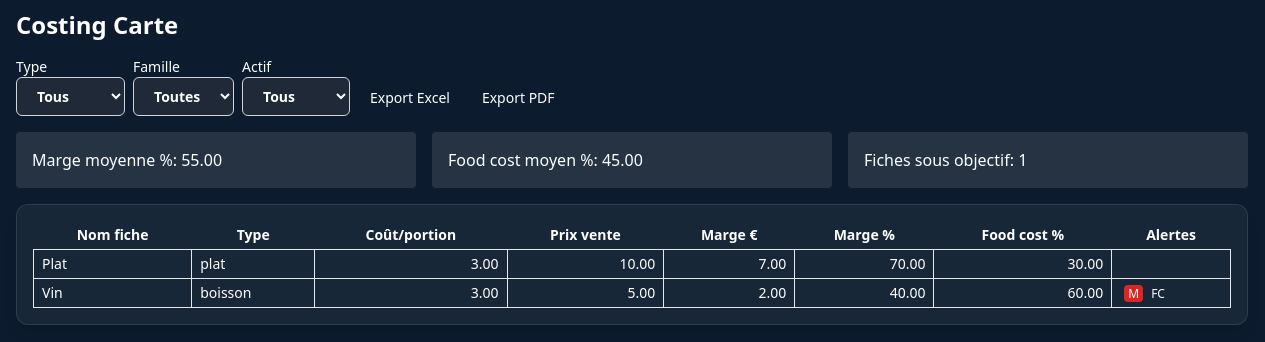
Test: filters by type
The image size is (1265, 342).
Select "Plat" in the dropdown labelled "Type" at [70, 96], box [16,77,125,116]
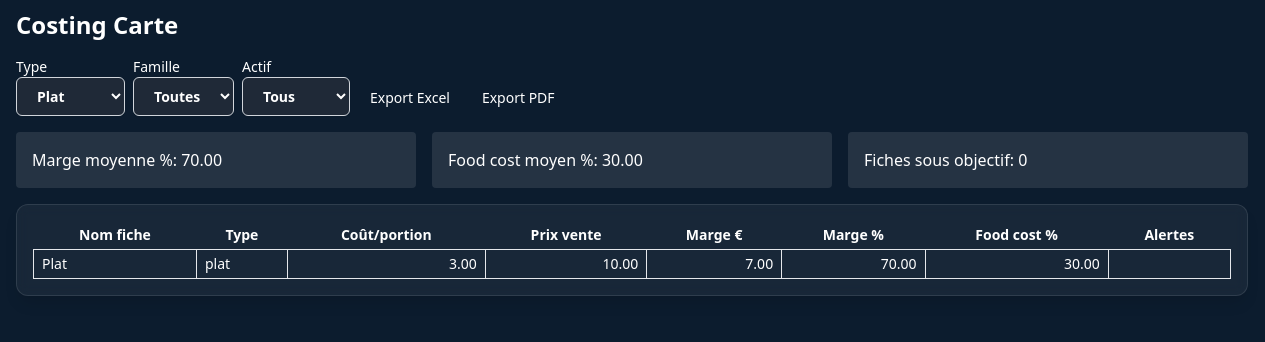
Expected: the text "Plat" is shown, [34,250,196,278]
Expected: the text "Vin" is gone
